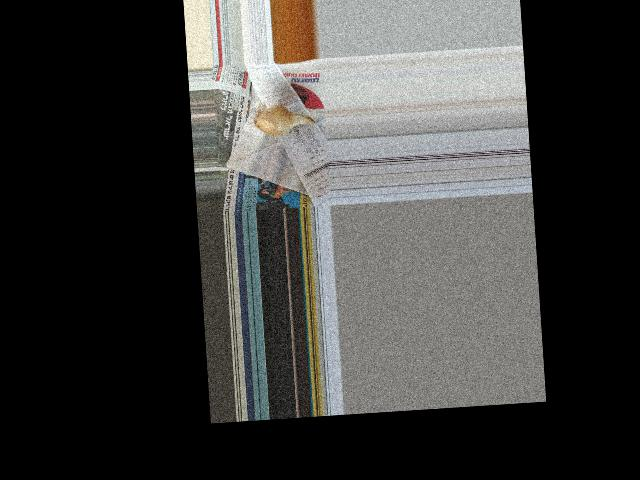onion: (253, 106, 298, 139)
